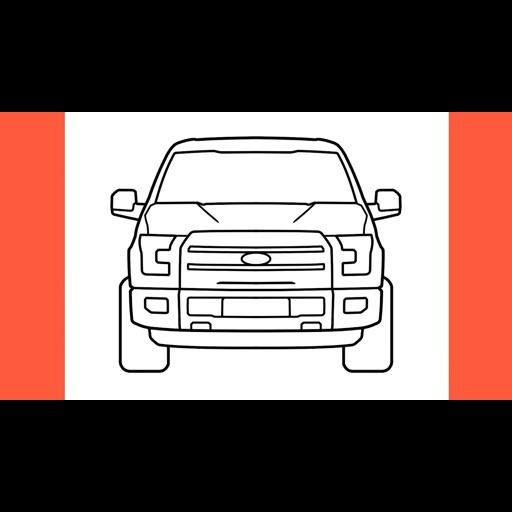truck: (113, 137, 400, 371)
